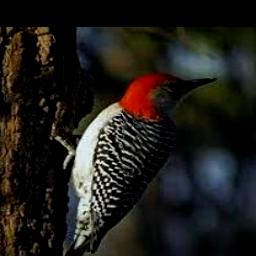Woodpecker: (57, 72, 217, 256)
